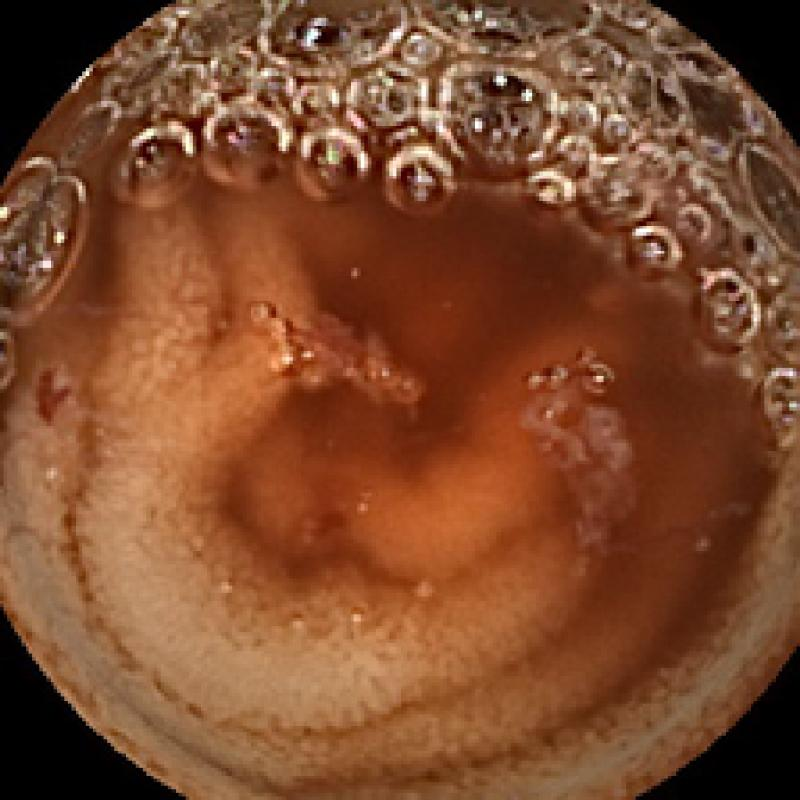bleeding: (25, 343, 86, 425)
